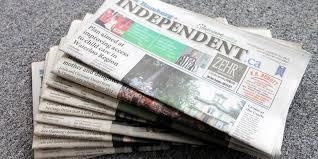Printing industry: (8, 1, 315, 159)
